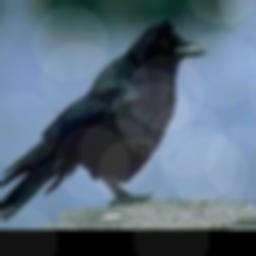Crow: (0, 20, 206, 224)
